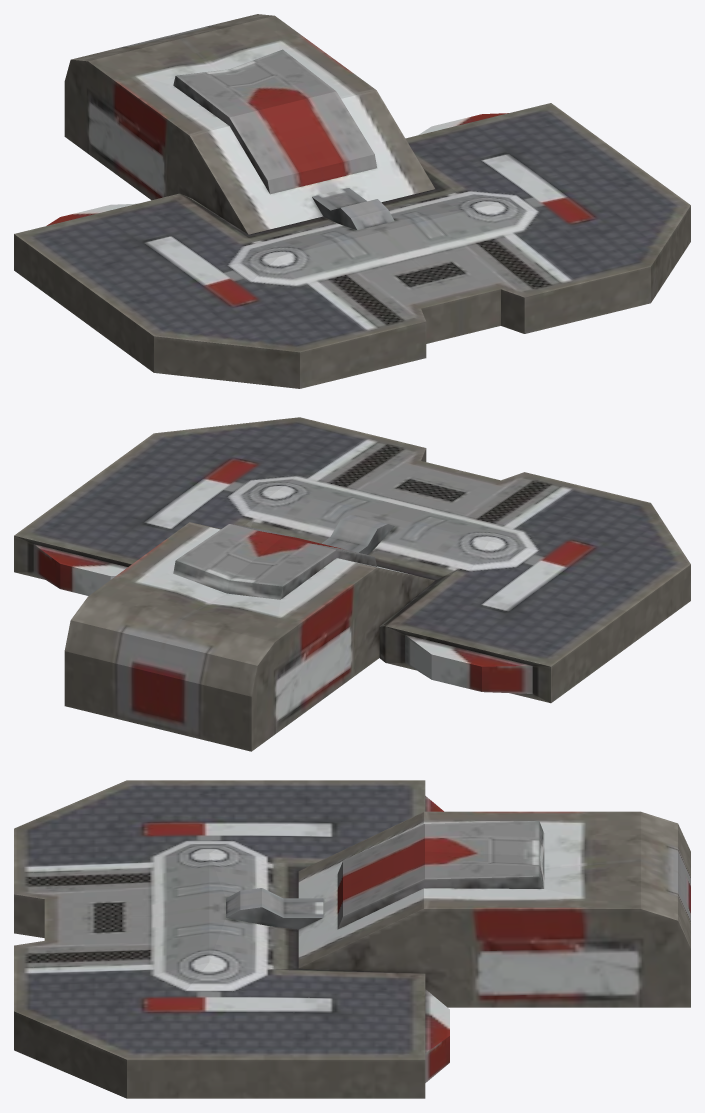
The model's file is Part - Pad 08-D-yyK38g.glb.
3 views of the same model, one above another, from view 1: azimuth 30°, elevation 25°; view 2: azimuth 150°, elevation 25°; view 3: azimuth 270°, elevation 25° (orthographic). The views are drawn at different scales.
Visible parts, largest first — view 1: Pad_08; view 2: Pad_08; view 3: Pad_08.
Part boxes in pixels (bbox=[...]): Pad_08: bbox=[14, 14, 690, 388]; Pad_08: bbox=[14, 417, 690, 751]; Pad_08: bbox=[14, 780, 690, 1098].
Bounding box in the file's own units: 2.72 × 0.5007 × 2.79.
Materials: 1 (1 with a texture image).
